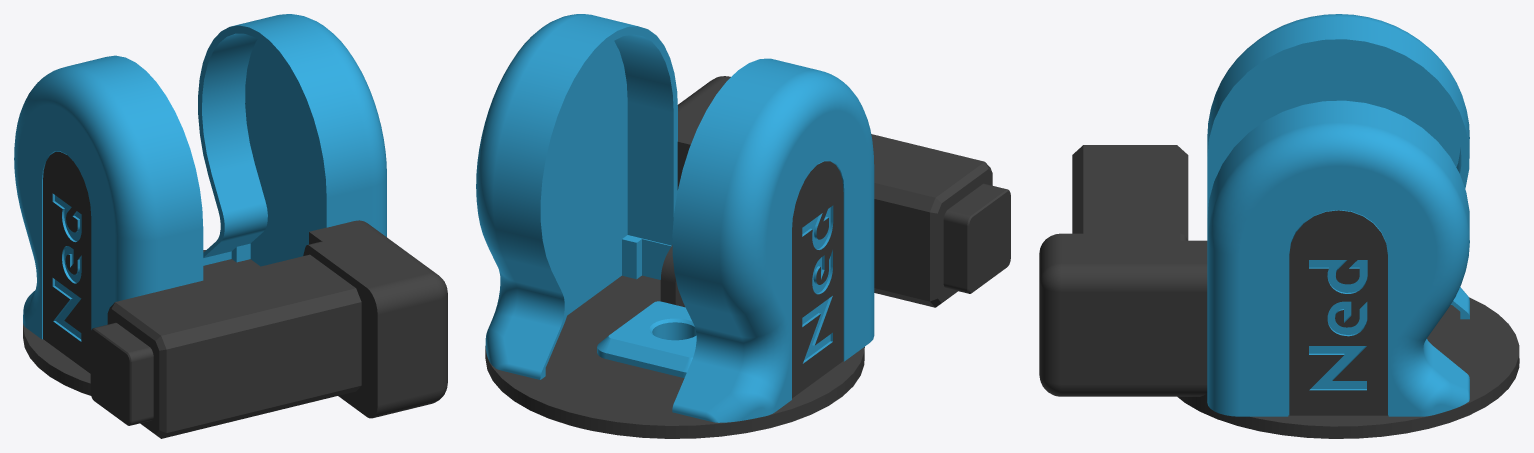
The model's file is shoulder_link.dae.
3 views of the same model, side by side, from view 1: azimuth 30°, elevation 25°; view 2: azimuth 150°, elevation 25°; view 3: azimuth 270°, elevation 25° (orthographic). The views are drawn at different scales.
Visible parts, largest first — view 1: _3DGeom-225, _3DGeom-224; view 2: _3DGeom-225, _3DGeom-224; view 3: _3DGeom-225, _3DGeom-224.
Part boxes in pixels (<box>): _3DGeom-225: <box>14,14,386,341</box>; _3DGeom-224: <box>23,152,447,438</box>; _3DGeom-225: <box>476,14,874,422</box>; _3DGeom-224: <box>485,76,1010,438</box>; _3DGeom-225: <box>1207,14,1469,416</box>; _3DGeom-224: <box>1039,145,1519,438</box>.
Size of the model in its own units: 0.1487 by 0.1753 by 0.1179.
